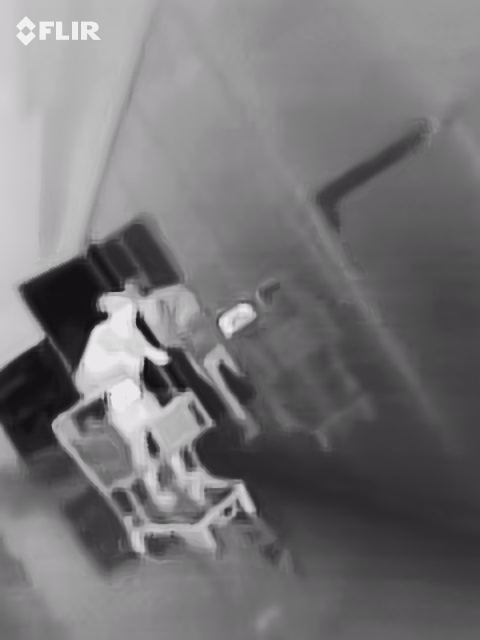head: (108, 297, 136, 333)
